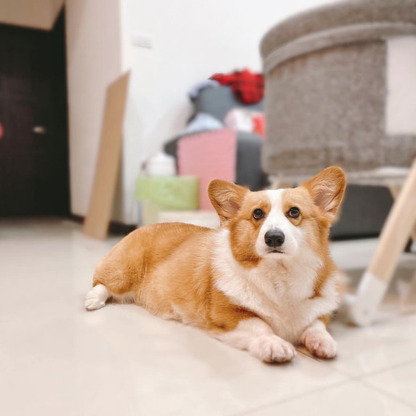Corgi: (85, 146, 367, 372)
